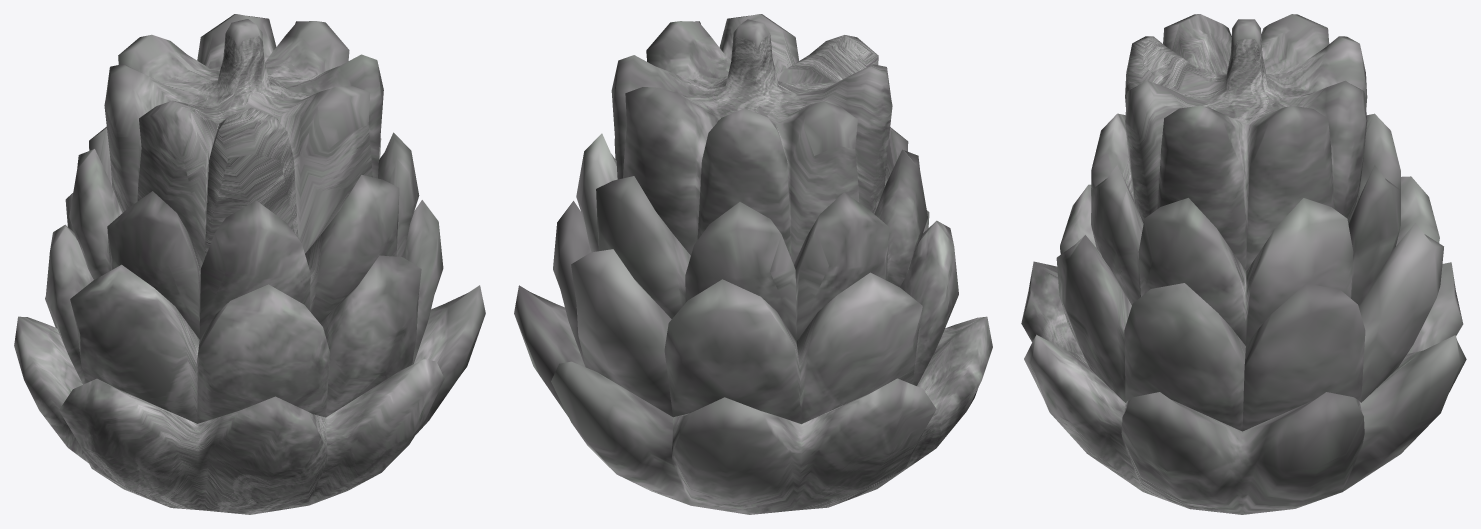
Rendered from PineCone.fbx.
3 renders of one model, left to right at view 1: azimuth 30°, elevation 25°; view 2: azimuth 150°, elevation 25°; view 3: azimuth 270°, elevation 25°, orthographic.
Visible parts, largest first — view 1: Bushlime; view 2: Bushlime; view 3: Bushlime.
Boxes of the visible parts, x1,y1,x2,y2 form: Bushlime: (14,14,485,514); Bushlime: (514,14,992,514); Bushlime: (1021,14,1466,514).
Bounding box in the file's own units: 0.7712 × 0.7986 × 0.7196.
